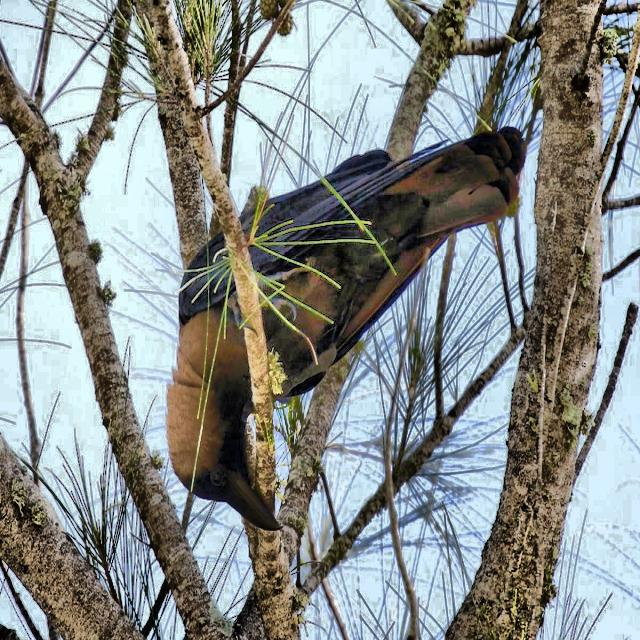crow: (145, 106, 574, 554)
